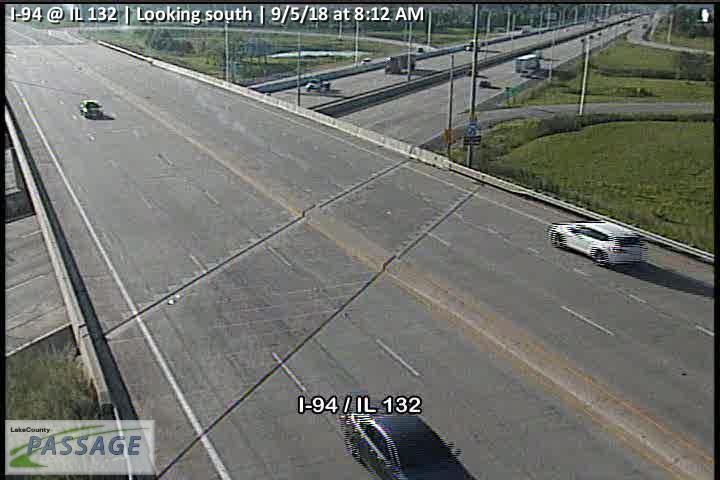SUV: (546, 218, 643, 268)
Sedan: (336, 406, 478, 480), (79, 99, 104, 119), (305, 77, 331, 90)
Truck: (382, 52, 415, 74), (512, 53, 540, 75)
